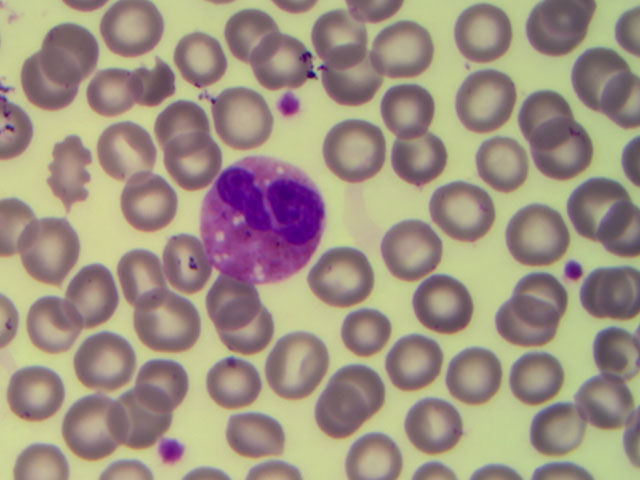Platelets: (158, 439, 187, 465), (278, 91, 300, 117), (564, 260, 583, 282)
RBC: (19, 219, 82, 284), (570, 46, 633, 111), (505, 199, 568, 264), (570, 177, 633, 242), (529, 114, 592, 179), (263, 333, 326, 398), (378, 216, 441, 281), (432, 179, 495, 244), (451, 66, 514, 131), (95, 119, 158, 184), (208, 83, 271, 148), (19, 46, 82, 111), (73, 328, 136, 393), (136, 290, 199, 355), (65, 395, 128, 460), (453, 3, 515, 65), (411, 270, 471, 334), (310, 245, 374, 305), (369, 18, 434, 77), (246, 33, 314, 88), (116, 170, 175, 232), (101, 1, 162, 59), (41, 133, 87, 209), (23, 298, 81, 352), (63, 261, 116, 320), (496, 292, 555, 345), (533, 394, 586, 453), (580, 369, 633, 428), (511, 343, 564, 402), (407, 393, 460, 452), (225, 7, 278, 66), (175, 28, 228, 87), (45, 23, 98, 82), (137, 355, 190, 414), (388, 330, 441, 389), (519, 86, 572, 145), (475, 132, 528, 191), (393, 126, 446, 185), (314, 5, 367, 64), (323, 47, 376, 106), (380, 80, 433, 139), (327, 120, 380, 179), (529, 1, 582, 59), (114, 386, 166, 445), (333, 363, 385, 421), (208, 354, 262, 409), (449, 344, 501, 401), (84, 66, 142, 117), (162, 225, 205, 291), (6, 371, 60, 421), (346, 433, 402, 480), (229, 408, 285, 455), (318, 380, 364, 436), (597, 196, 639, 255), (340, 307, 389, 356), (1, 97, 36, 164), (1, 201, 38, 258), (580, 268, 623, 317), (11, 446, 71, 480), (604, 73, 640, 127), (1, 282, 23, 355), (611, 5, 639, 55), (98, 455, 153, 480), (341, 1, 403, 23), (246, 458, 301, 480), (621, 408, 640, 470), (406, 460, 463, 480), (467, 459, 521, 480), (173, 462, 233, 480), (535, 462, 593, 480), (53, 1, 105, 16)
WBC: (200, 155, 326, 282)
